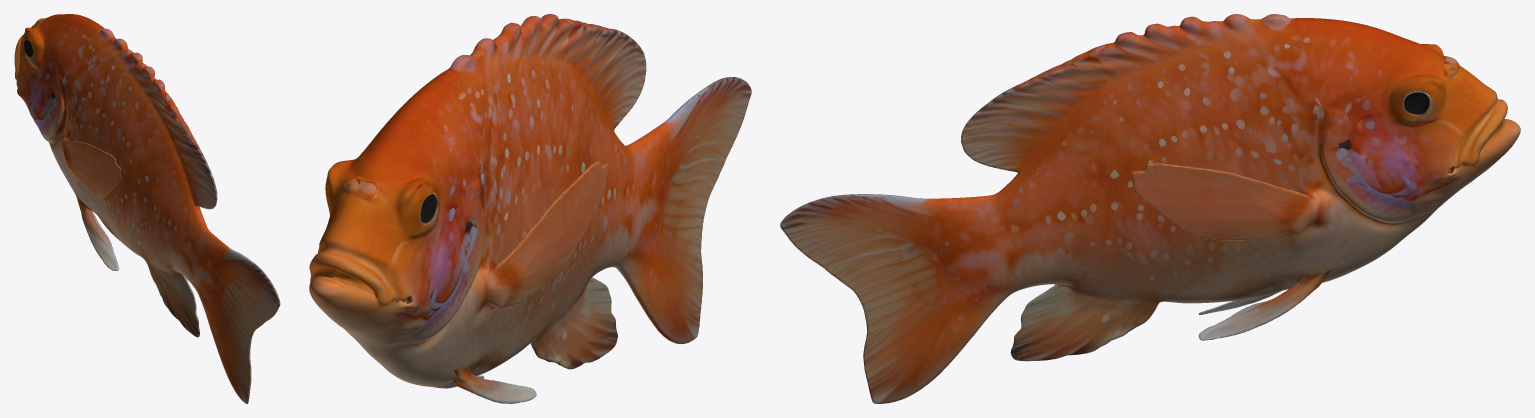
File: trop_anthias.glb
The picture shows the model from 3 angles, left to right: view 1: azimuth 30°, elevation 25°; view 2: azimuth 150°, elevation 25°; view 3: azimuth 270°, elevation 25°; orthographic projection. The views are drawn at different scales.
Parts seen in each view (by area): view 1: tripo_node_88f77587-e3b9-4d8a-829b-64c5d208a5de; view 2: tripo_node_88f77587-e3b9-4d8a-829b-64c5d208a5de; view 3: tripo_node_88f77587-e3b9-4d8a-829b-64c5d208a5de.
Boxes of the visible parts, x1,y1,x2,y2 form: tripo_node_88f77587-e3b9-4d8a-829b-64c5d208a5de: (14, 14, 280, 403); tripo_node_88f77587-e3b9-4d8a-829b-64c5d208a5de: (309, 14, 751, 403); tripo_node_88f77587-e3b9-4d8a-829b-64c5d208a5de: (780, 14, 1520, 403).
Size of the model in its own units: 0.1672 by 0.5798 by 1.
1 material, 1 textured.
